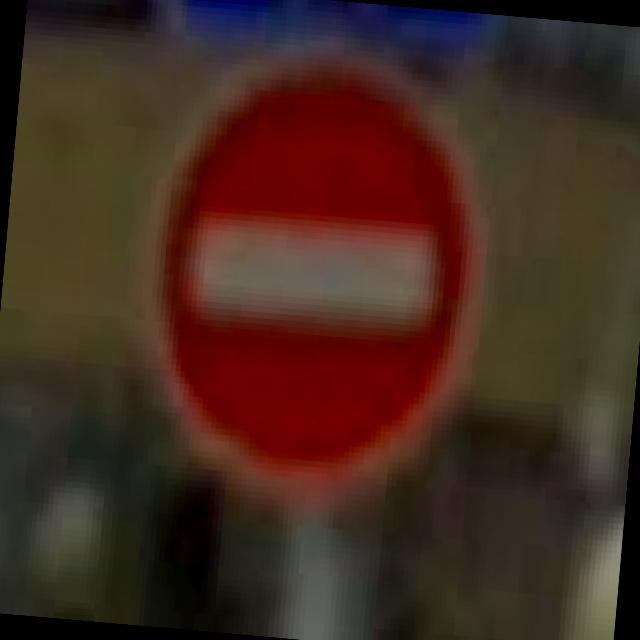Zakaz wjazdu: (130, 39, 502, 510)
